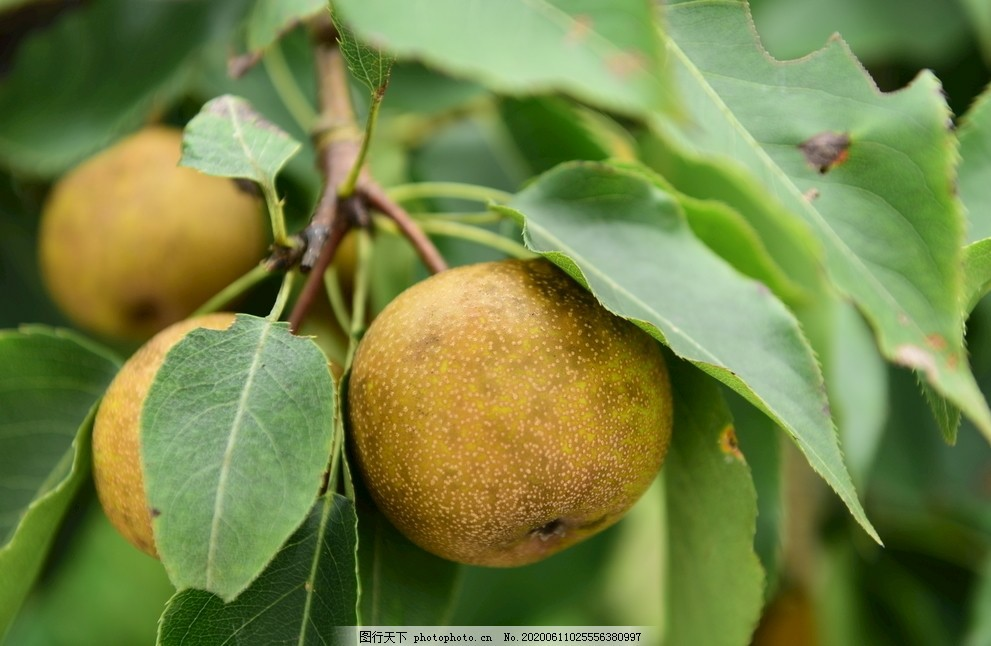pear: (343, 259, 674, 566), (90, 314, 326, 558), (37, 124, 264, 337)
